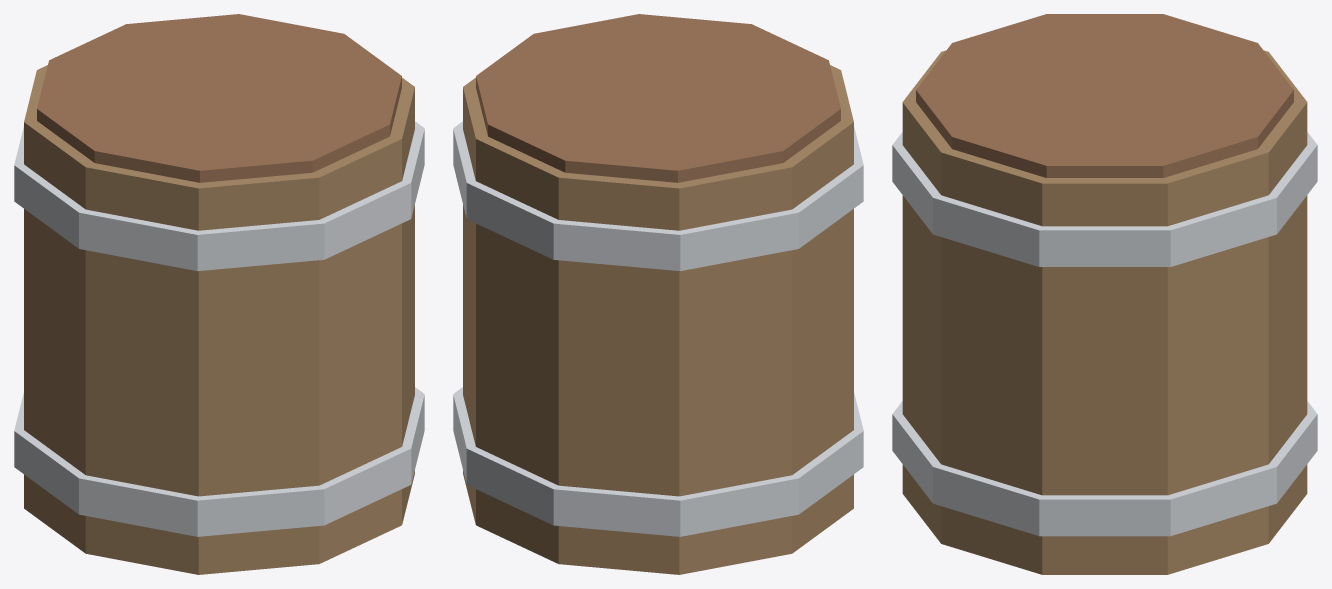
Rendered from barrel.glb.
3 views of the same model, side by side, from view 1: azimuth 30°, elevation 25°; view 2: azimuth 150°, elevation 25°; view 3: azimuth 270°, elevation 25° (orthographic).
Parts seen in each view (by area): view 1: body, lid, band_low, band_high; view 2: body, lid, band_low, band_high; view 3: body, lid, band_low, band_high.
Part boxes in pixels (left/top/right/bottom): body: left=24, top=65, right=414, bottom=574; lid: left=37, top=14, right=401, bottom=182; band_low: left=14, top=387, right=424, bottom=536; band_high: left=14, top=121, right=424, bottom=271; body: left=463, top=65, right=853, bottom=574; lid: left=476, top=14, right=840, bottom=182; band_low: left=453, top=387, right=863, bottom=536; band_high: left=453, top=121, right=863, bottom=271; body: left=902, top=50, right=1307, bottom=574; lid: left=916, top=14, right=1293, bottom=177; band_low: left=892, top=401, right=1317, bottom=536; band_high: left=892, top=132, right=1317, bottom=266.
Bounding box in the file's own units: 0.5992 × 0.66 × 0.63.
